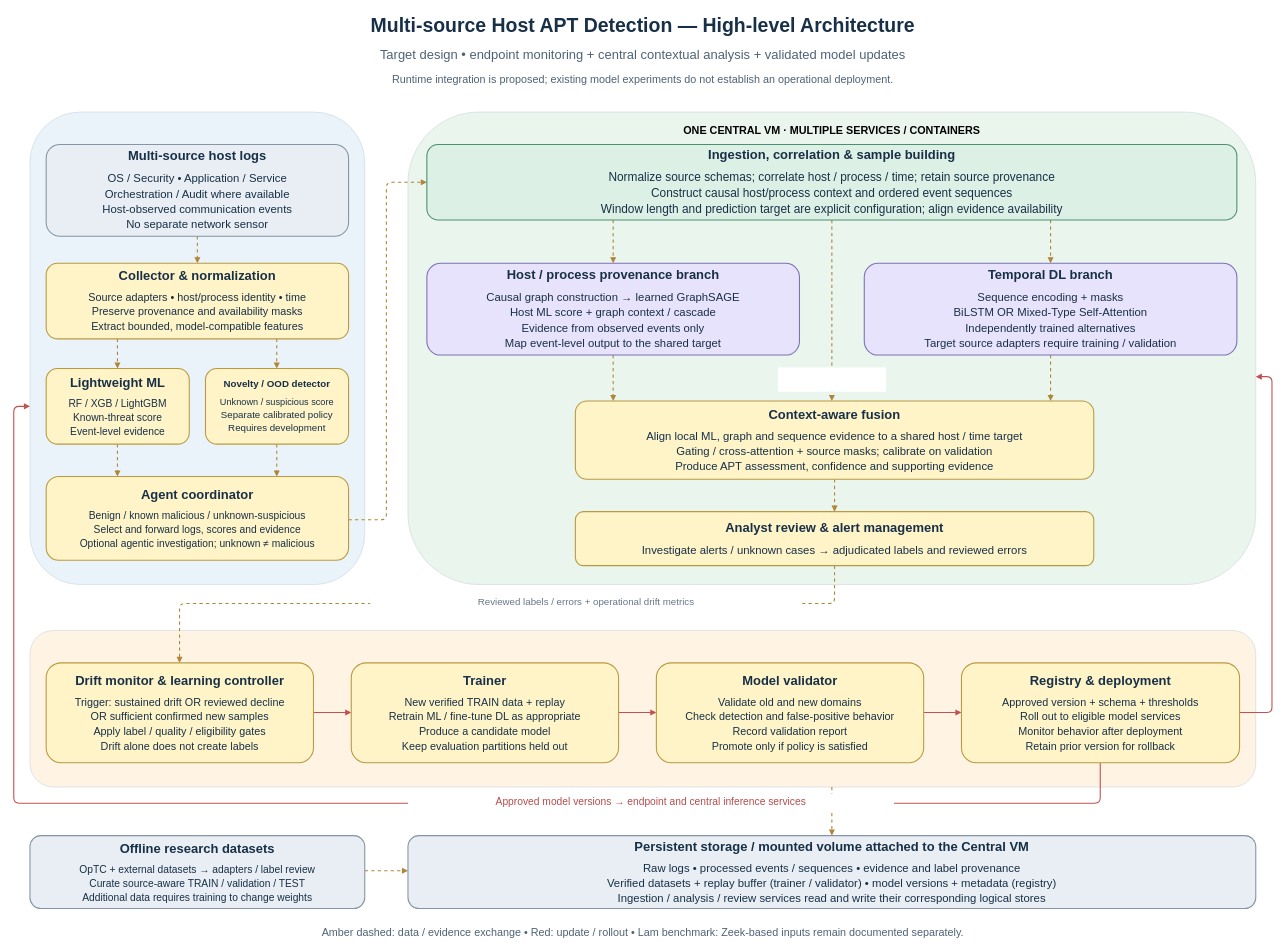
This 1286x950 diagram has some shape labels left out. Each missing label, with the box of its shape:
END HOST · MONITOR, DETECT, SEND EVIDENCE: (29, 112, 365, 585)
LEARNING LIFECYCLE · SERVICES ON THE CENTRAL VM: (29, 630, 1256, 787)
Local scores + masks: (778, 367, 886, 392)
